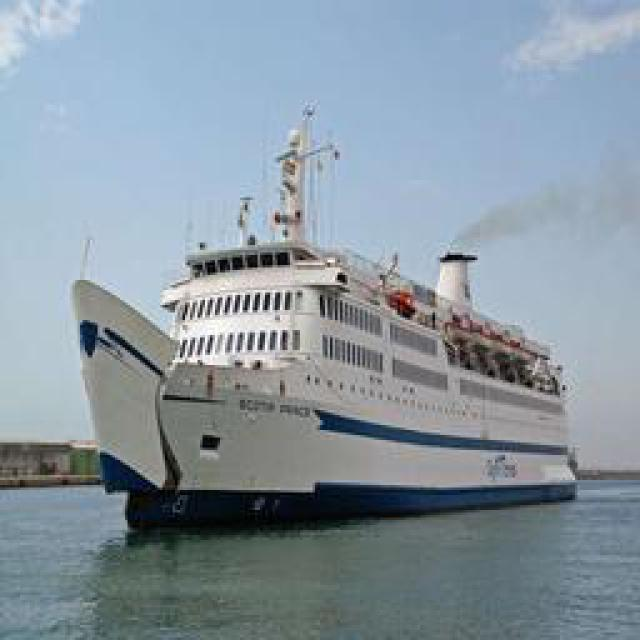Ship: (113, 99, 581, 514)
